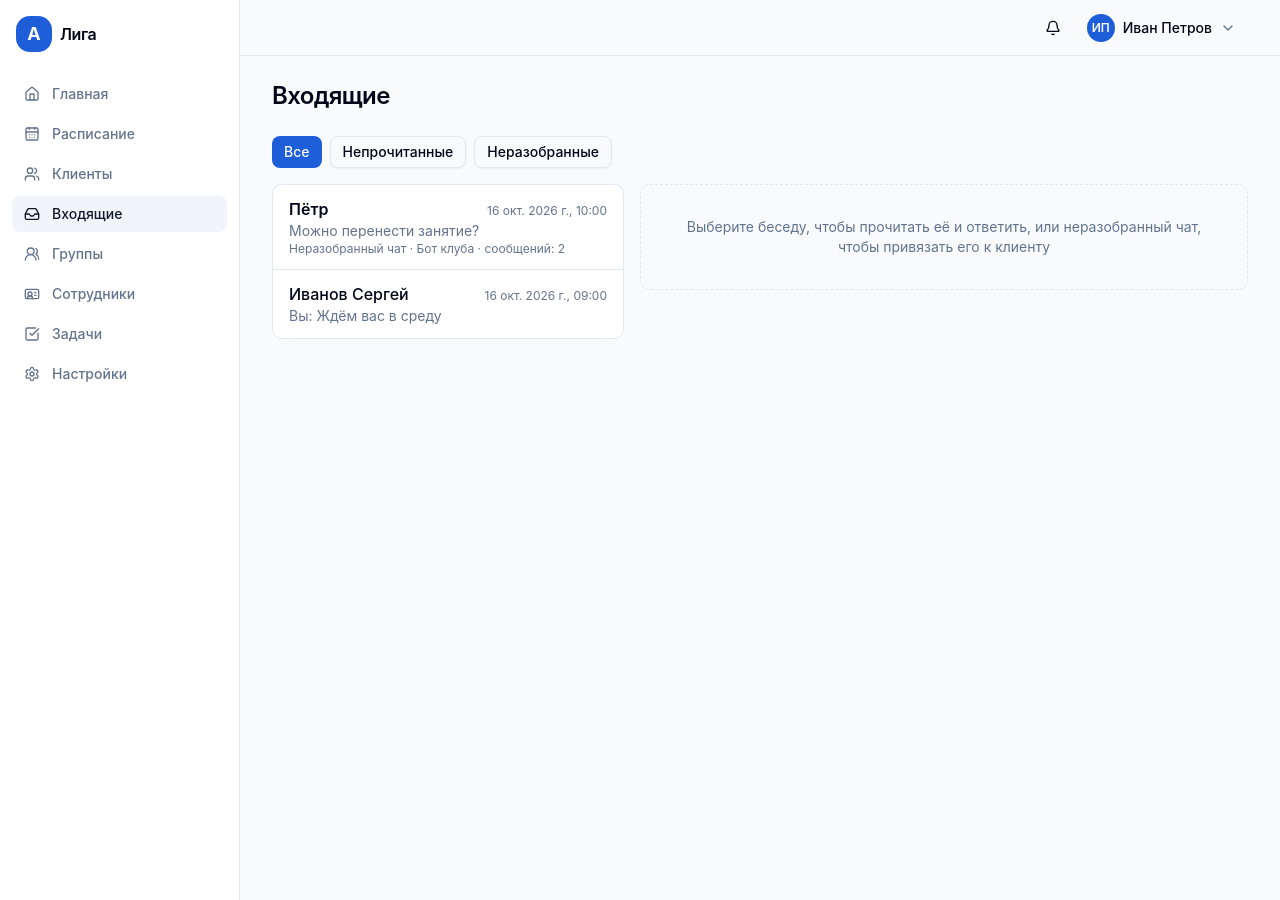
Test case: входящие › фильтр «Неразобранные» запрашивает только неразобранные чаты
Expected: the list named "Беседы и чаты" is shown, x1=272 y1=184 x2=624 y2=339
Click the button "Неразобранные" at (543, 152), box x1=474 y1=136 x2=612 y2=168
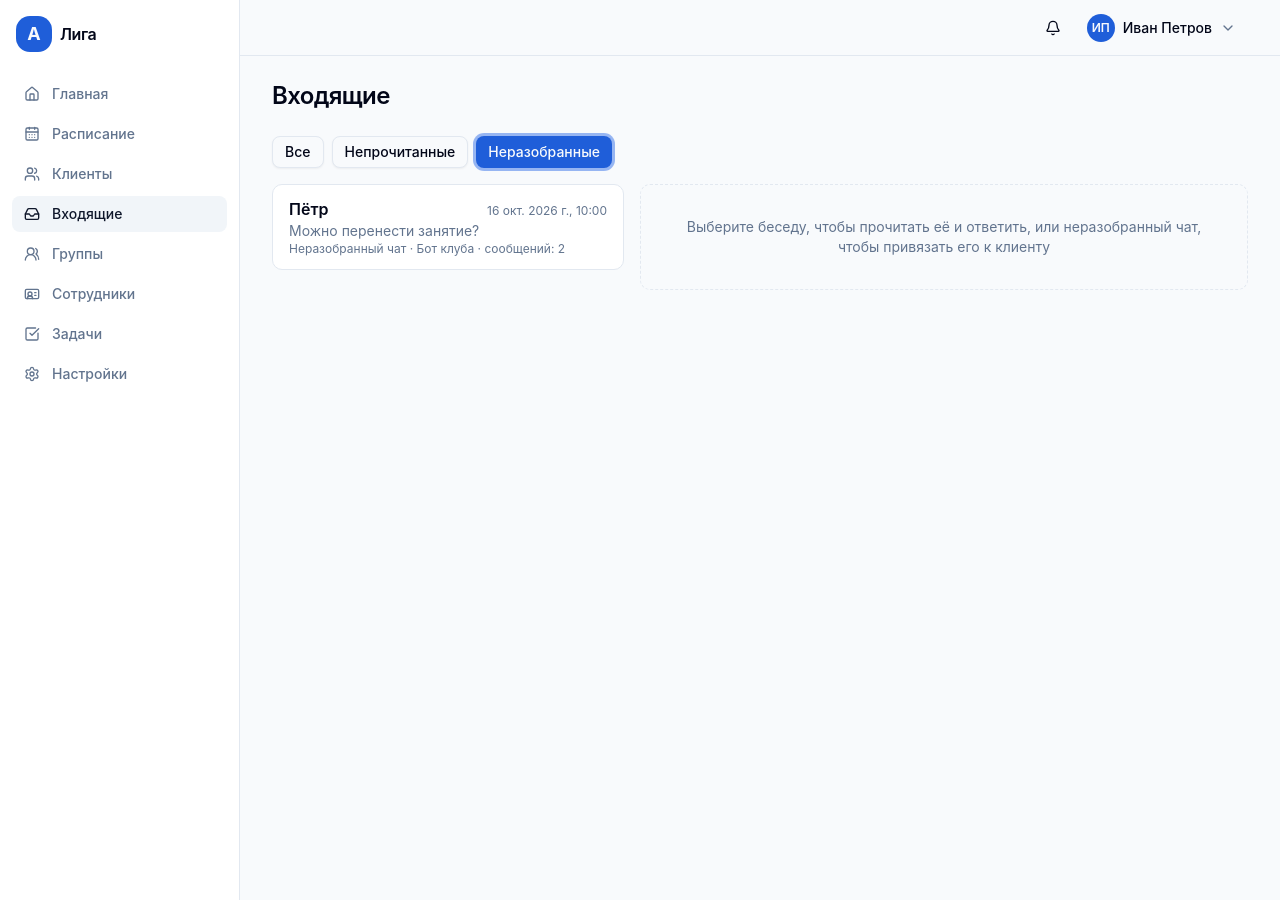
Expected: the button "Иванов Сергей" is gone
